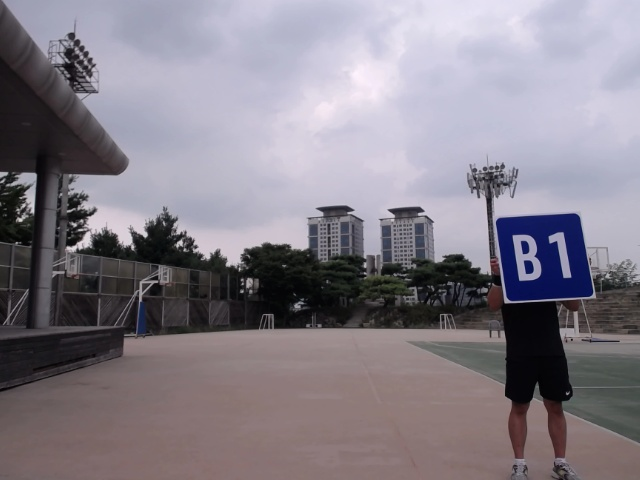delivery_b1: (493, 212, 597, 303)
